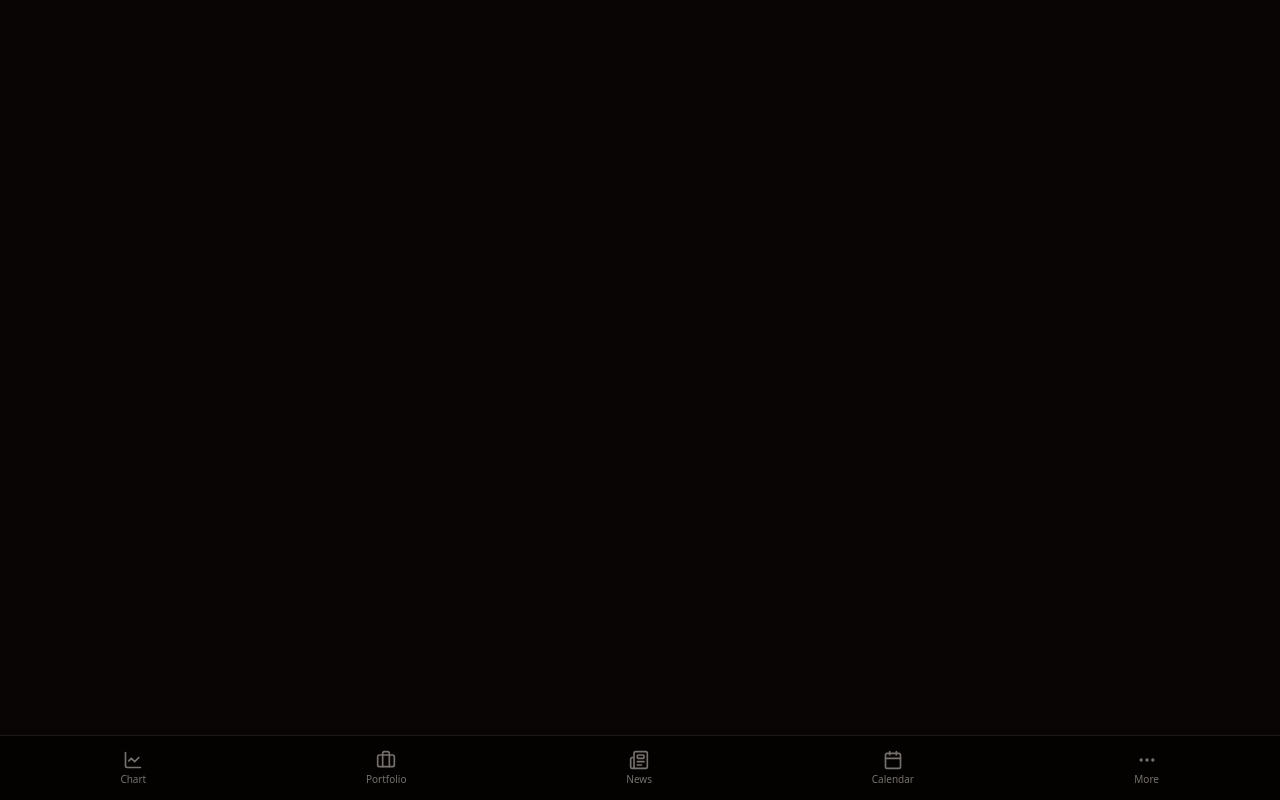
Test case: MobileBottomNav › More Menu › should close more menu when close button is clicked
Click the button "More" at {"x": 1147, "y": 768}, box [1117,742,1177,794]
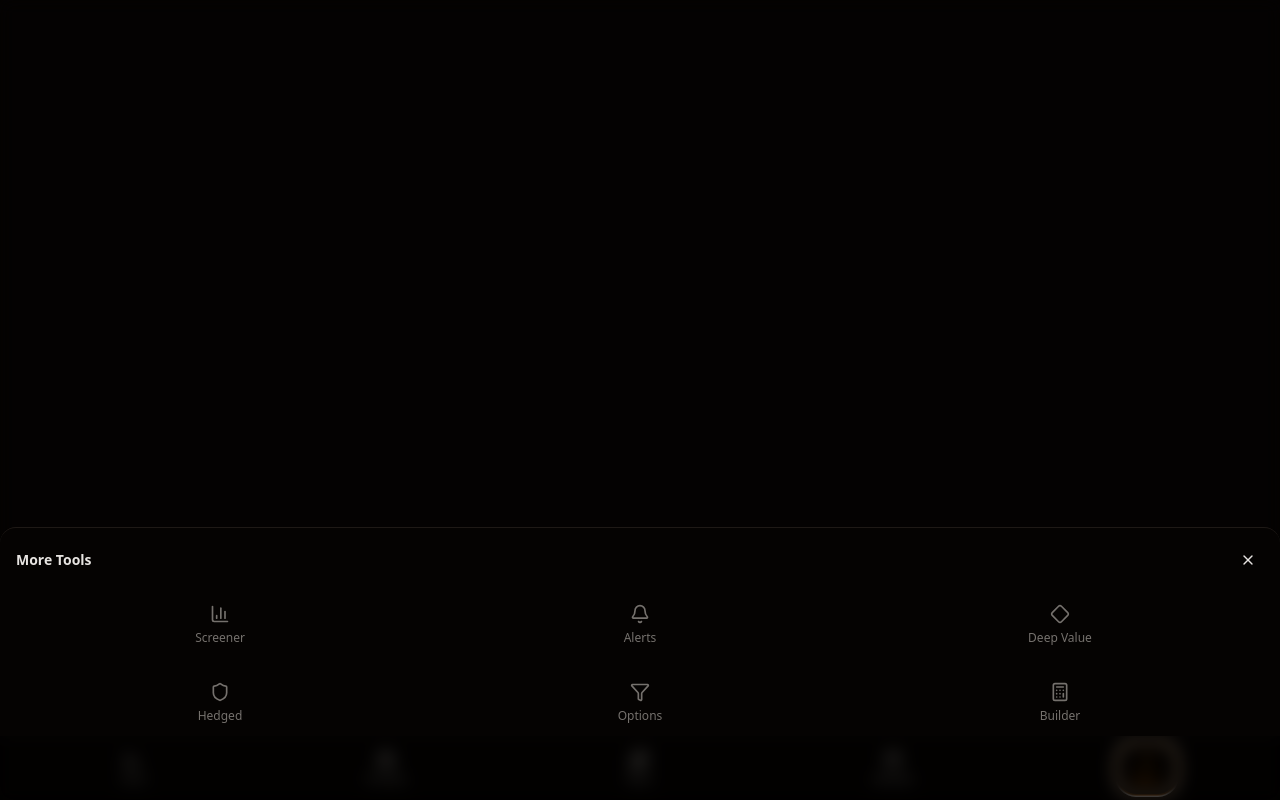
Check: the text "More Tools" is shown, box [16,550,92,570]
Click the 1st button at {"x": 1248, "y": 560}, box [1232,544,1264,576]
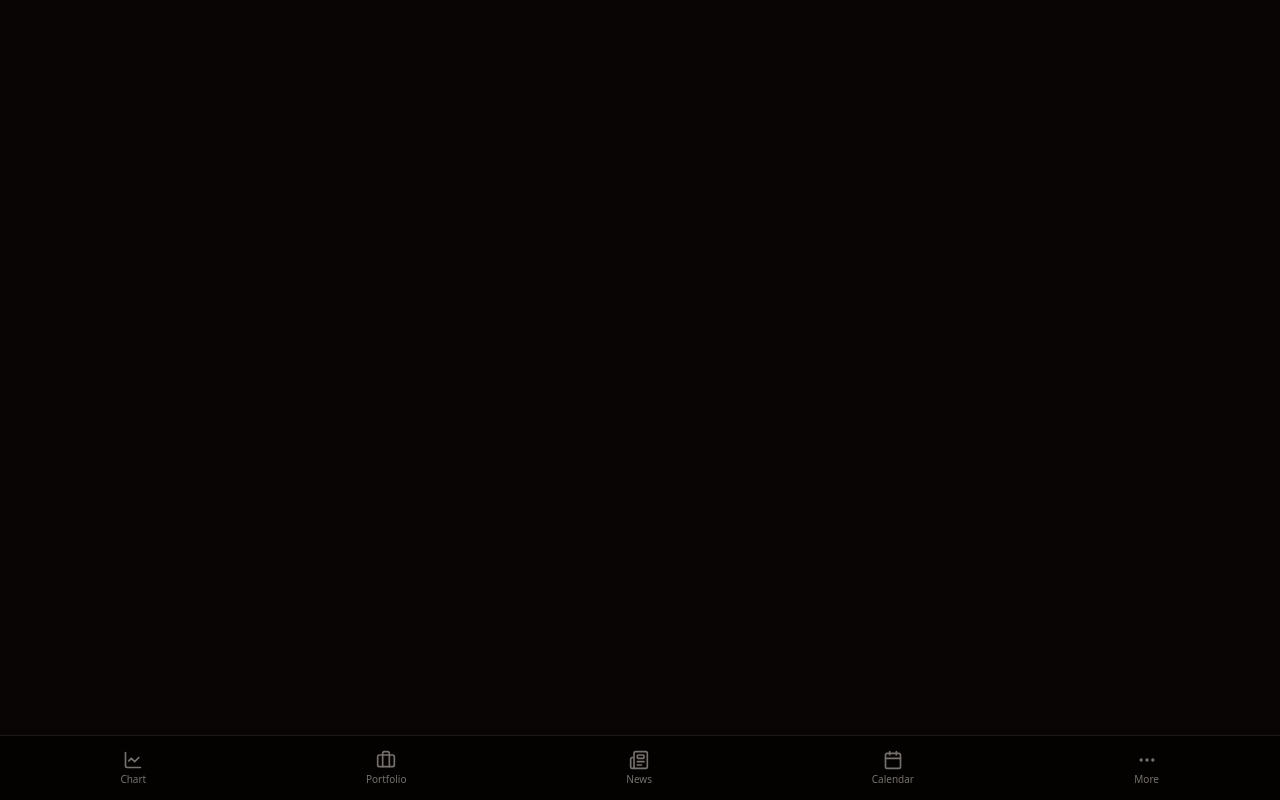
Check: the text "More Tools" is gone
